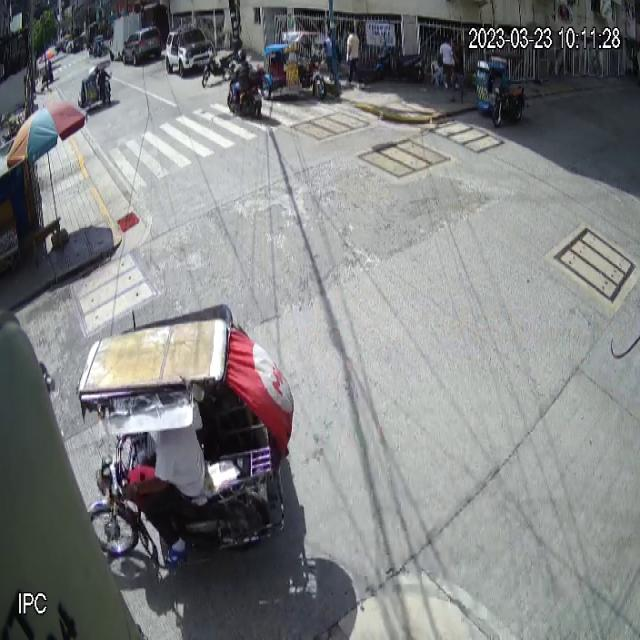Tricycle: (76, 299, 294, 583), (260, 30, 326, 99), (476, 50, 528, 128)
